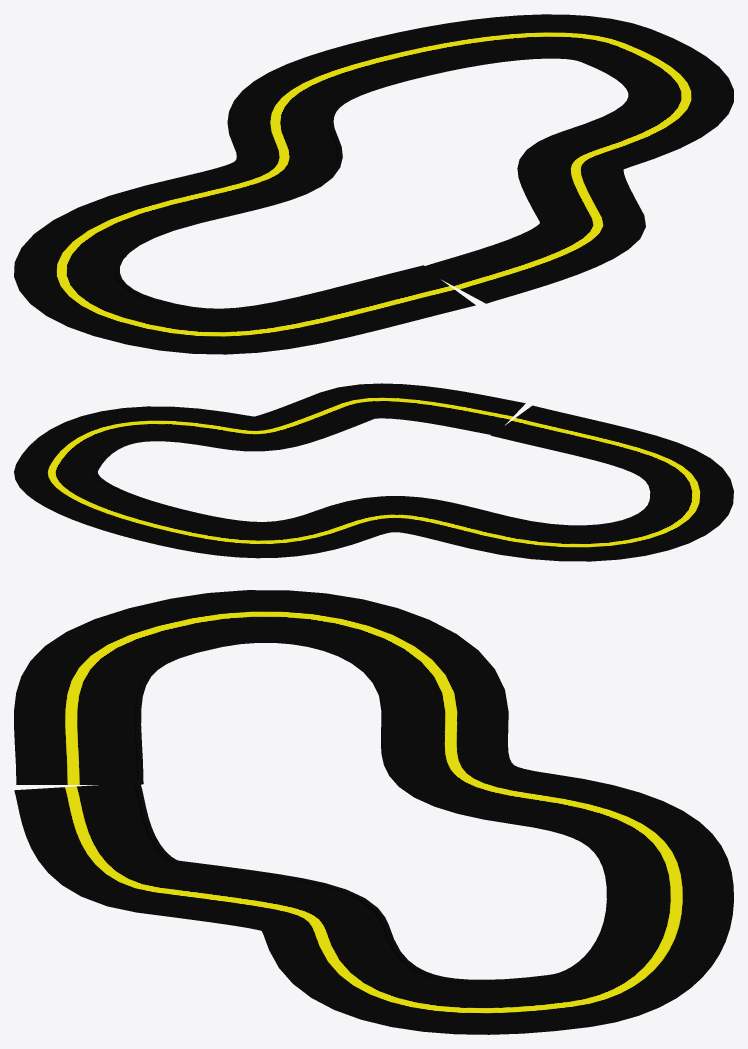
File: racetrack.glb
3 views of the same model, one above another, from view 1: azimuth 30°, elevation 25°; view 2: azimuth 150°, elevation 25°; view 3: azimuth 270°, elevation 25° (orthographic). The views are drawn at different scales.
Visible parts, largest first — view 1: BezierCurve; view 2: BezierCurve; view 3: BezierCurve.
Boxes of the visible parts, bbox=[...] form: BezierCurve: bbox=[14, 14, 733, 354]; BezierCurve: bbox=[14, 383, 733, 561]; BezierCurve: bbox=[14, 590, 733, 1034].
Size of the model in its own units: 53.66 by 0.1194 by 36.71.
1 material, 1 textured.
